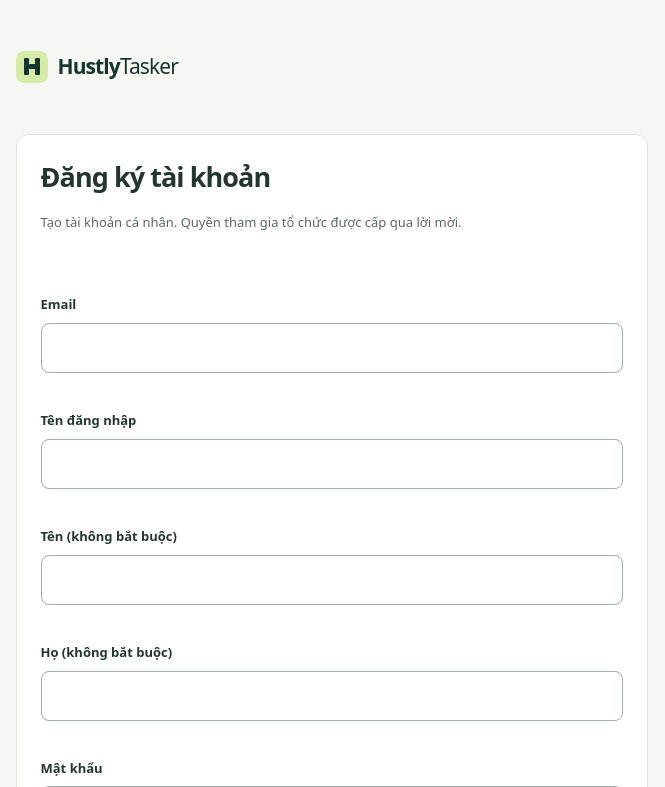
it: registration frontend › creates without auto-login or implied Profile membership, then clears password fields
Type "new@example.test" into the field labelled "Email" at (332, 348), box [40,323,622,373]
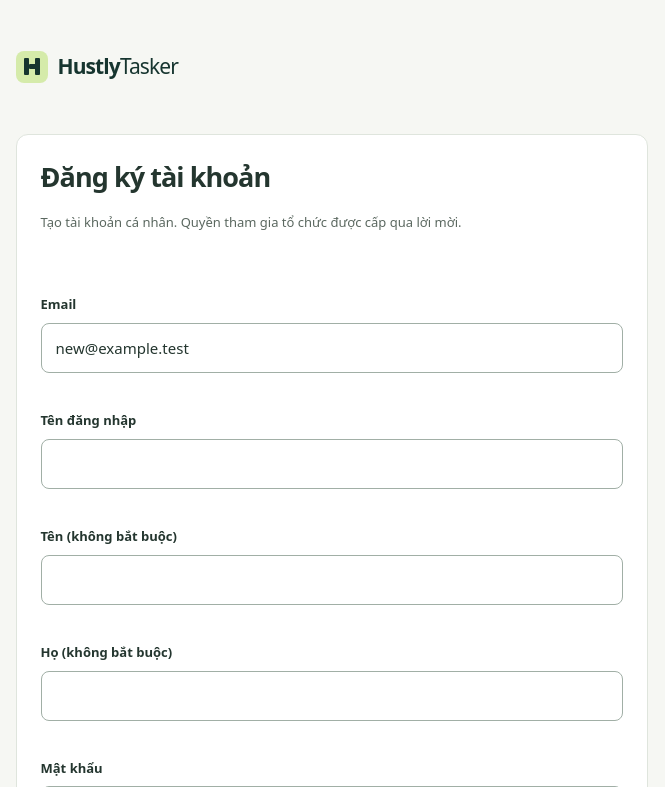
Type "new-member" into the field labelled "Tên đăng nhập" at (332, 464), box [40,439,622,489]
(page scrolled)
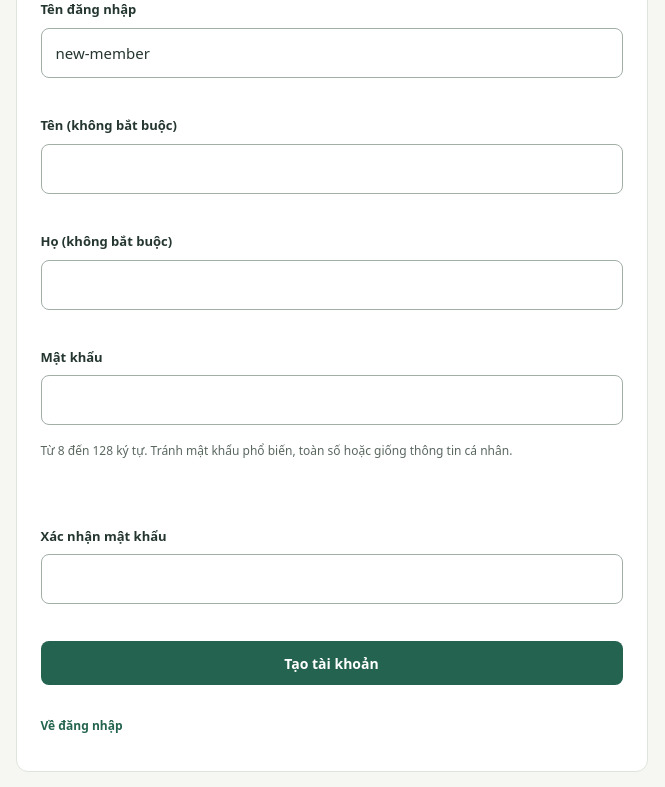
Type "Synthetic-password-only" into the password field labelled "Mật khẩu" at (332, 400), box [40,375,622,425]
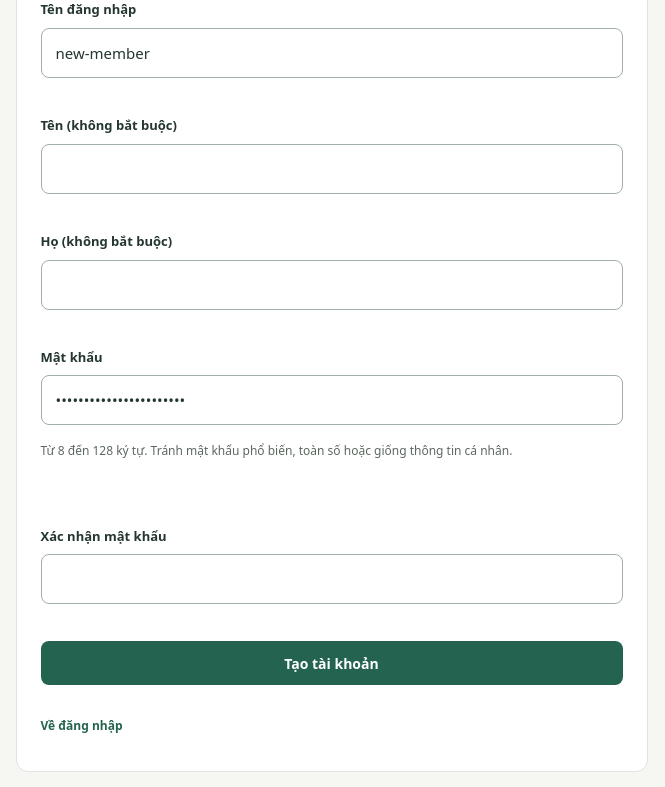
Type "Synthetic-password-only" into the password field labelled "Xác nhận mật khẩu" at (332, 579), box [40,554,622,604]
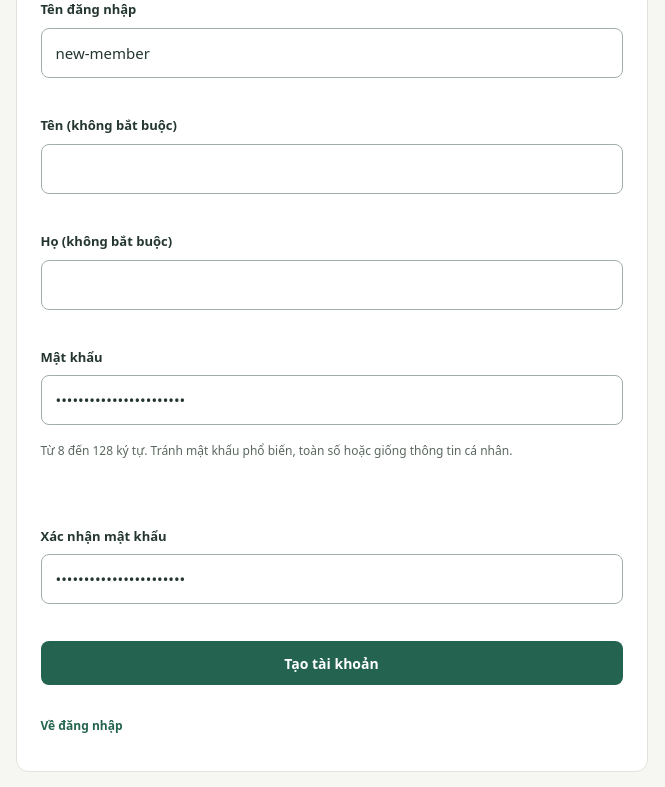
Click the button "Tạo tài khoản" at (332, 663), box [40,641,622,685]
(page scrolled)
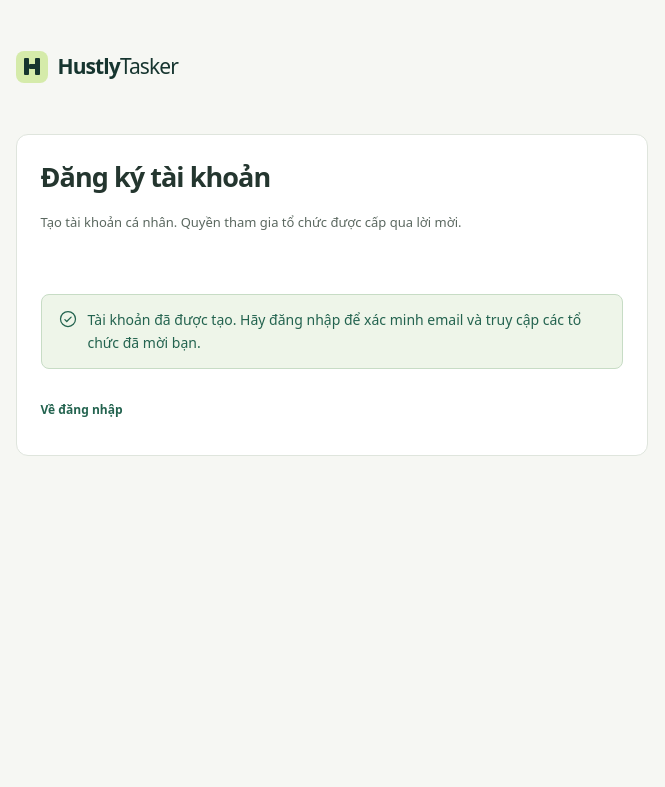
Result: the message shows "Tài khoản đã được tạo" at [88,310,581,352]
Result: the label labelled "Mật khẩu" is gone
